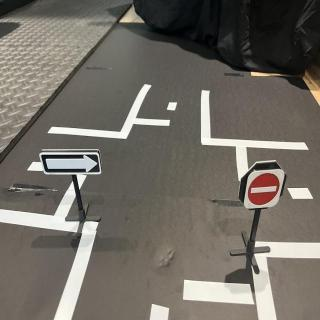sign_noentry: (244, 171, 286, 210)
sign_oneway_right: (39, 148, 103, 176)
